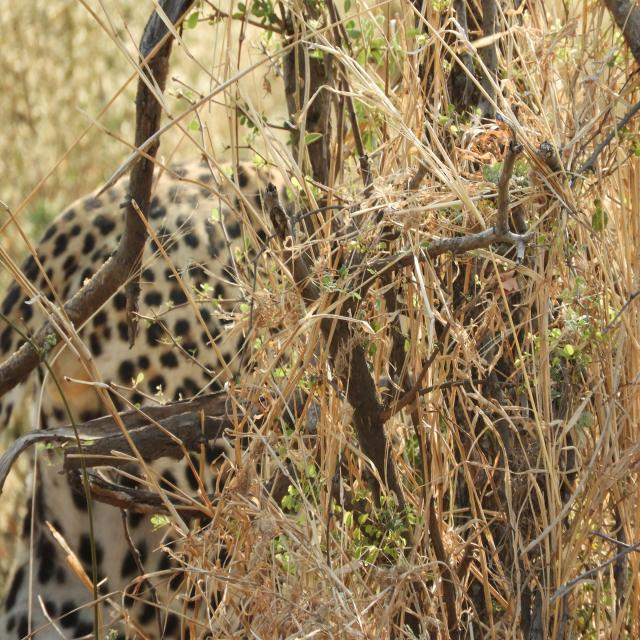Leopard: (9, 146, 351, 640)
